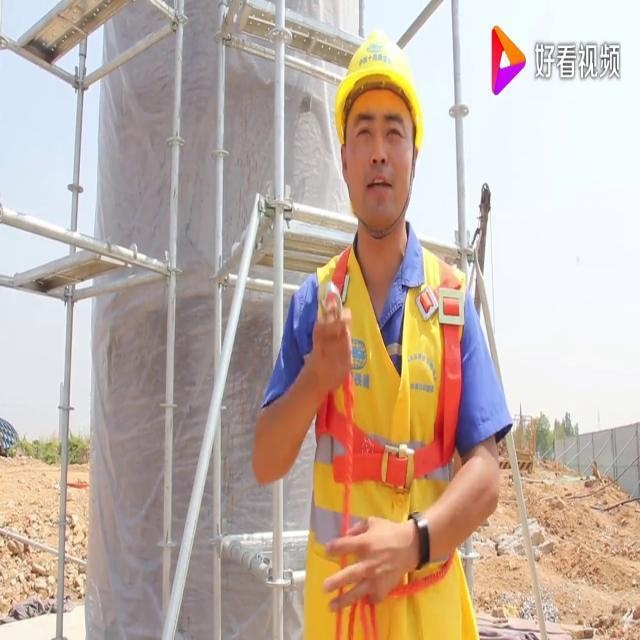Arnes_seguridad: (308, 226, 476, 533)
